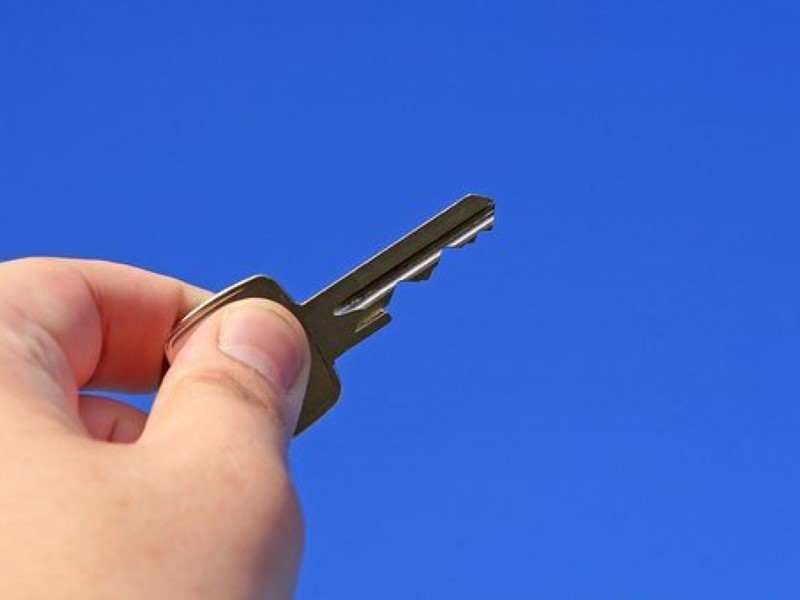key: (165, 178, 502, 446)
